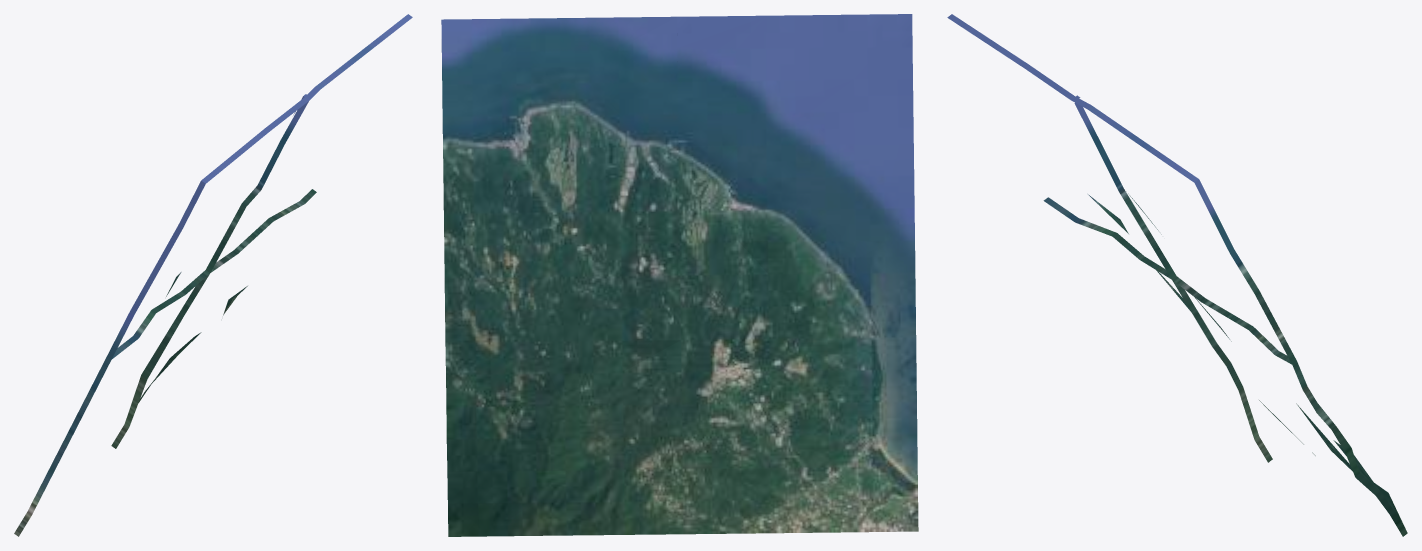
3 renders of one model, left to right at view 1: azimuth 30°, elevation 25°; view 2: azimuth 150°, elevation 25°; view 3: azimuth 270°, elevation 25°, orthographic. The views are drawn at different scales.
Size of the model in its own units: 9826 by 8864 by 8785.
1 material, 1 textured.
